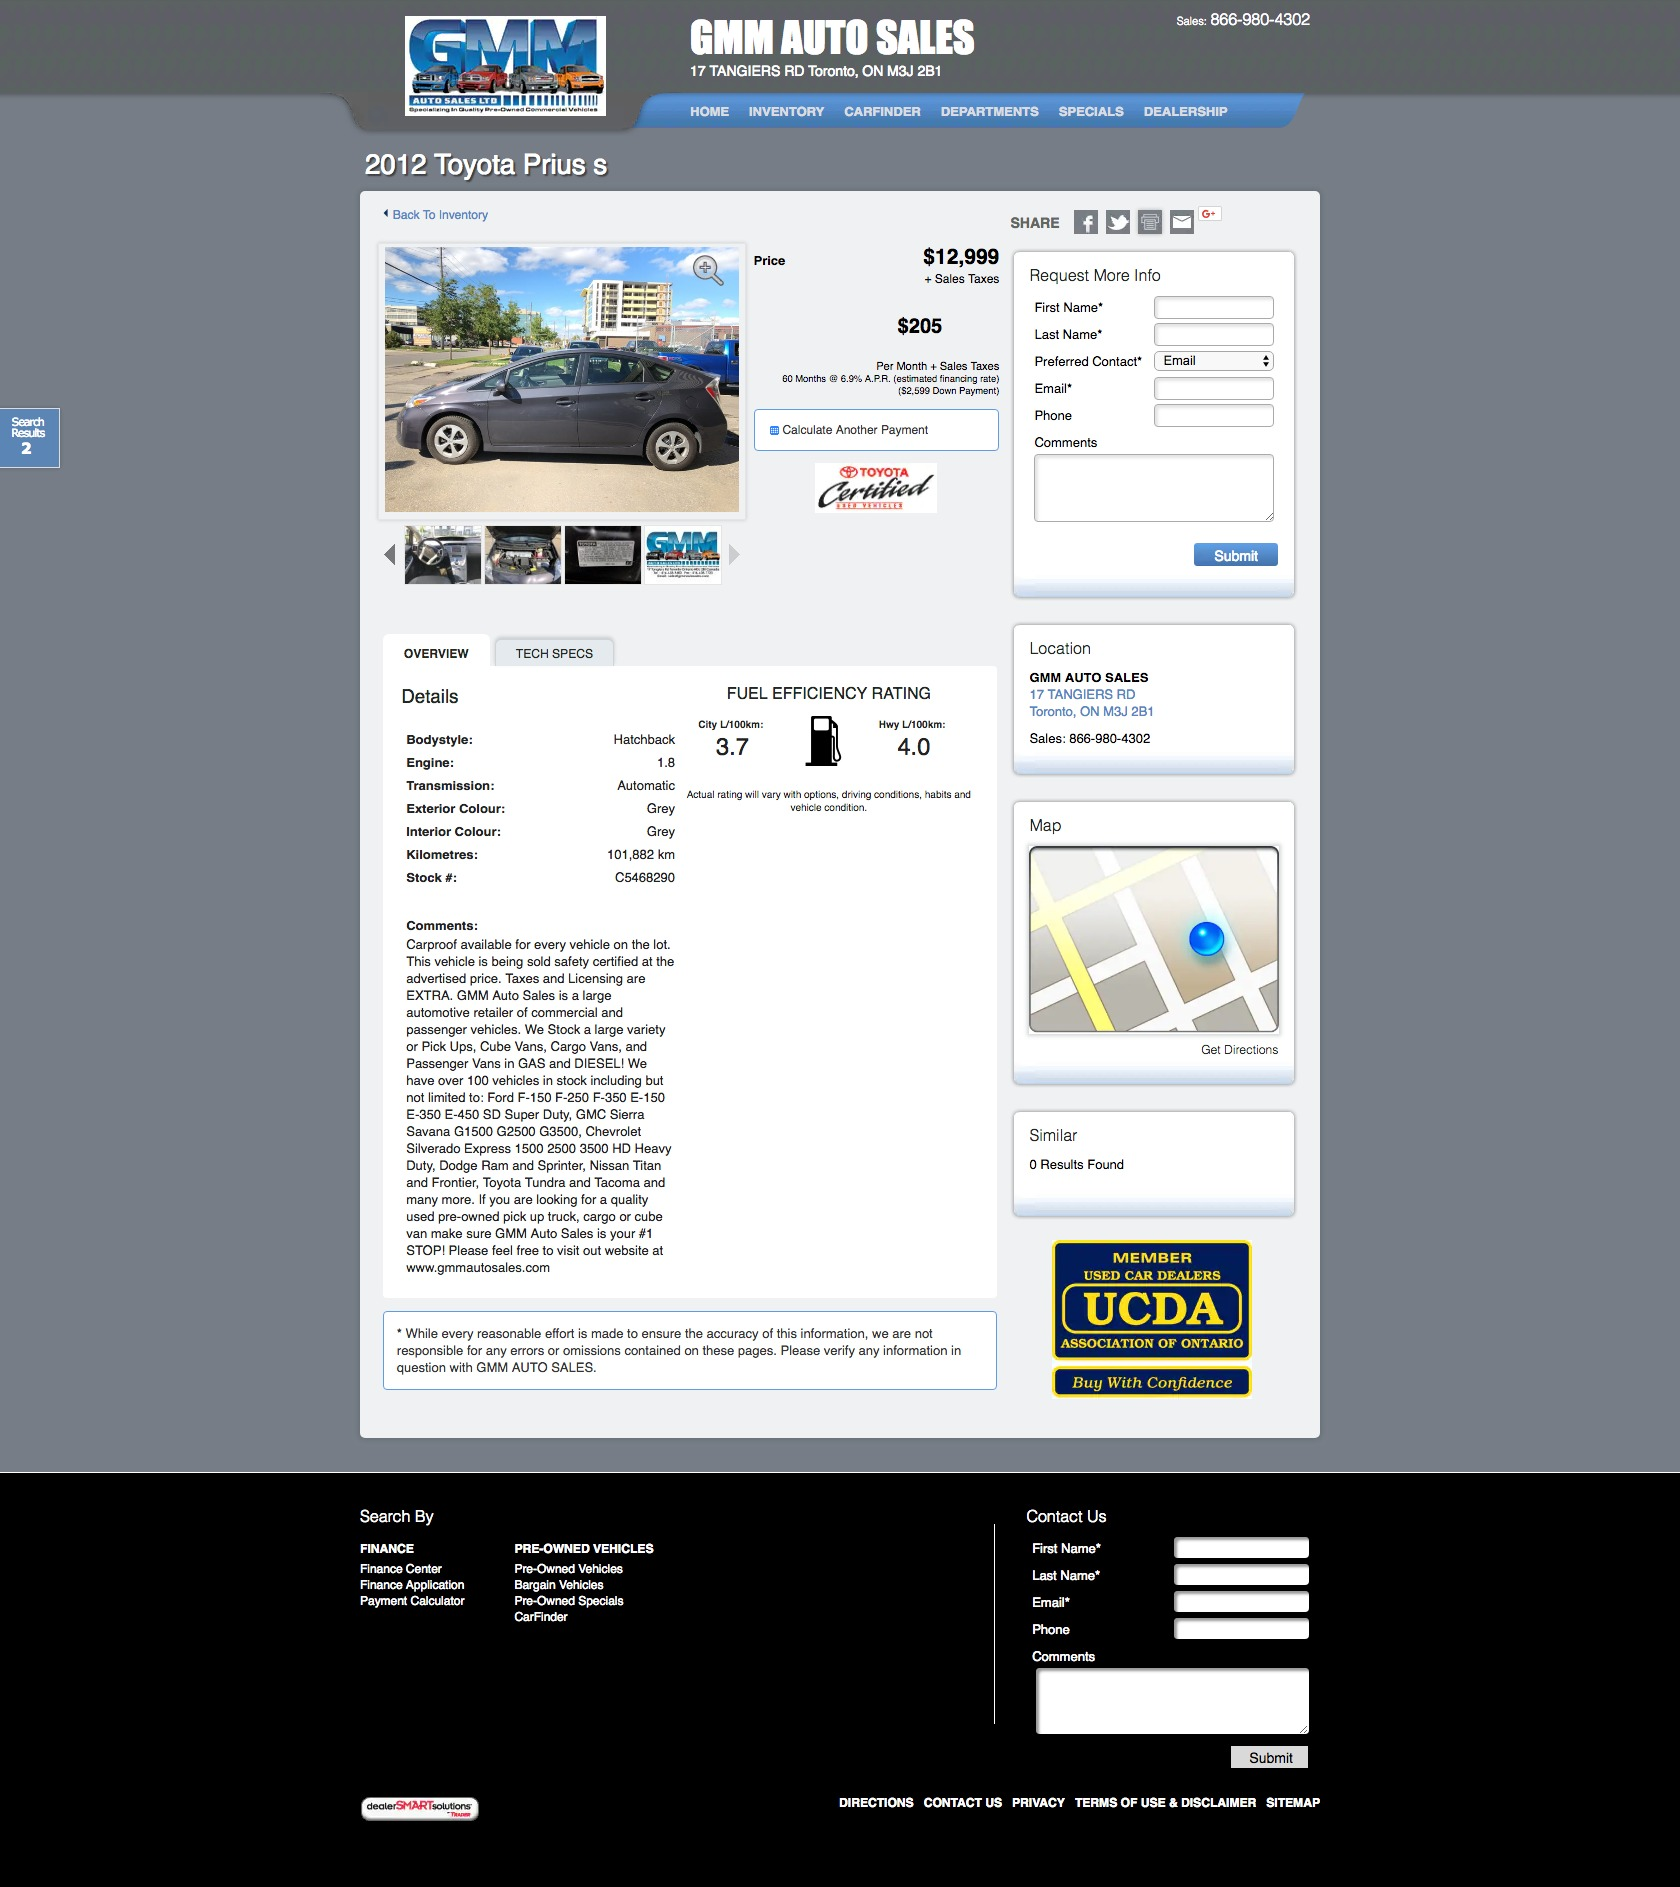car: (730, 545, 741, 567)
